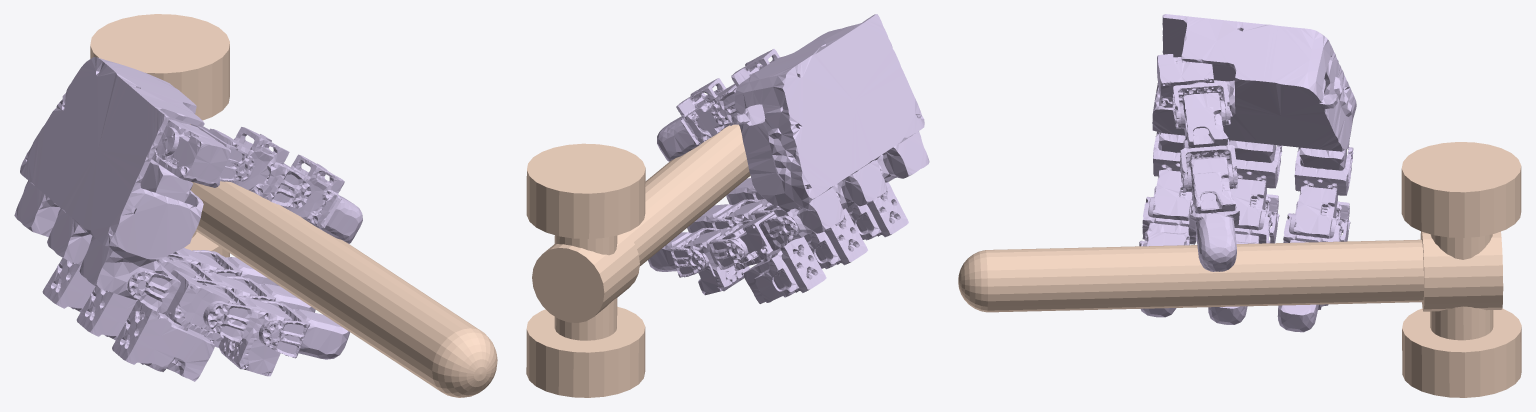
File: b4bdf6113b5f63-final.glb
The picture shows the model from 3 angles, left to right: view 1: azimuth 30°, elevation 25°; view 2: azimuth 150°, elevation 25°; view 3: azimuth 270°, elevation 25°; orthographic projection. The views are drawn at different scales.
Visible parts, largest first — view 1: LEAP_hand, world; view 2: LEAP_hand, world; view 3: world, LEAP_hand.
Boxes of the visible parts, x1,y1,x2,y2 form: LEAP_hand: (14,56,362,381); world: (90,14,497,397); LEAP_hand: (648,14,929,303); world: (526,124,750,397); world: (958,142,1521,397); LEAP_hand: (1139,14,1356,332).
Size of the model in its own units: 0.1855 by 0.202 by 0.3577.
